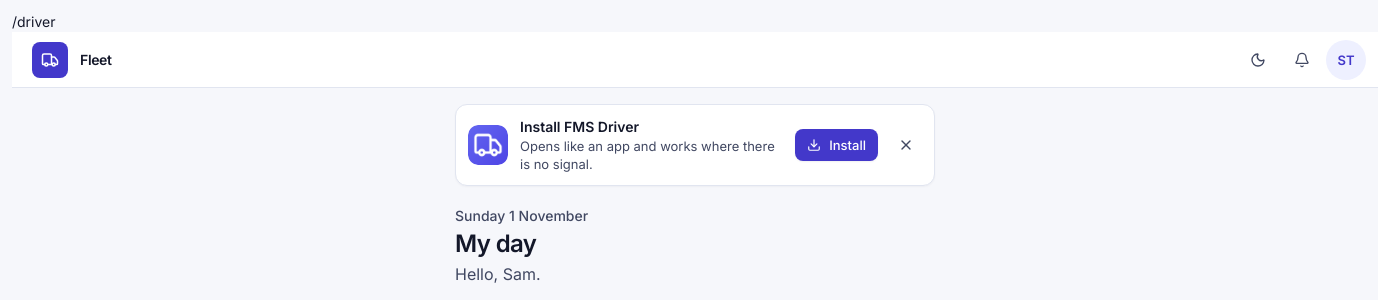
Test: driver app shell (FMS-34) › offers to install when Chrome does, and Install opens Chrome's prompt once
The width and height of the screenshot is (1378, 300).
Expected: the heading "My day" is shown, x1=455 y1=229 x2=536 y2=258
Step 1. Click the button "Install" → point(837, 145), box x1=795 y1=129 x2=878 y2=161
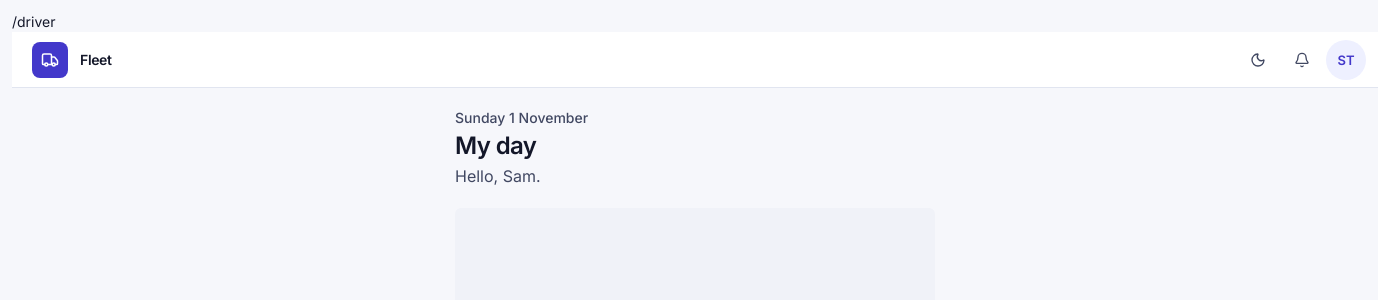
Expected: the text "Install FMS Driver" is gone
